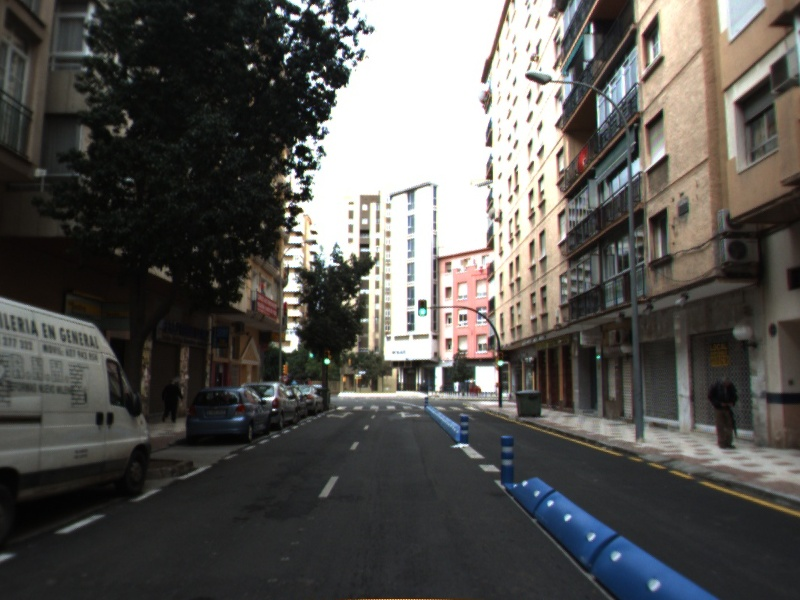STRAIGHT_LEFT: (325, 410, 355, 420)
STRAIGHT_RIGHT: (395, 410, 423, 419)
